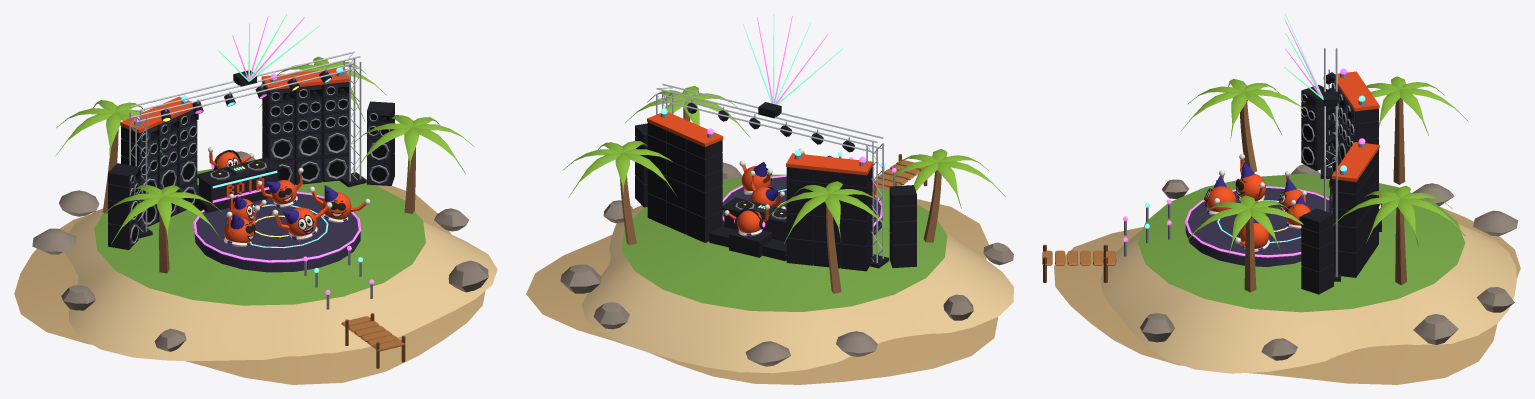
The model's file is allday.glb.
The picture shows the model from 3 angles, left to right: view 1: azimuth 30°, elevation 25°; view 2: azimuth 150°, elevation 25°; view 3: azimuth 270°, elevation 25°; orthographic projection.
Visible parts, largest first — view 1: allday_isla; view 2: allday_isla; view 3: allday_isla.
Part boxes in pixels (x1,y1,x2,y2): allday_isla: (14, 14, 497, 384); allday_isla: (526, 14, 1013, 384); allday_isla: (1042, 14, 1520, 384).
Size of the model in its own units: 16.26 by 10 by 16.36.
